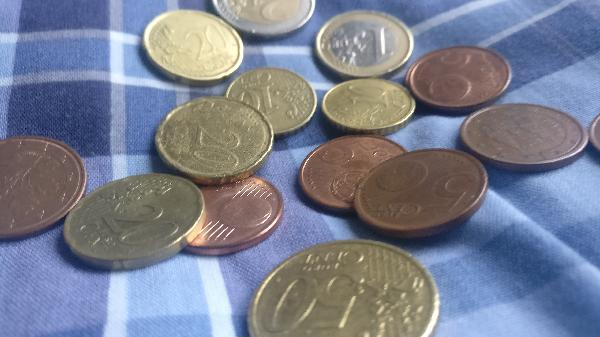Fifty Cent: (247, 239, 438, 337)
Five Cent: (352, 146, 491, 237), (165, 170, 291, 256), (1, 132, 93, 247), (295, 132, 411, 215), (466, 99, 587, 171), (404, 48, 513, 110)
One Euro: (315, 9, 415, 79)
Ten Cent: (221, 68, 320, 136), (318, 75, 417, 136)
Twenty Cent: (65, 172, 208, 271), (155, 92, 275, 178), (144, 9, 244, 84)
Two Euro: (212, 1, 318, 35)
